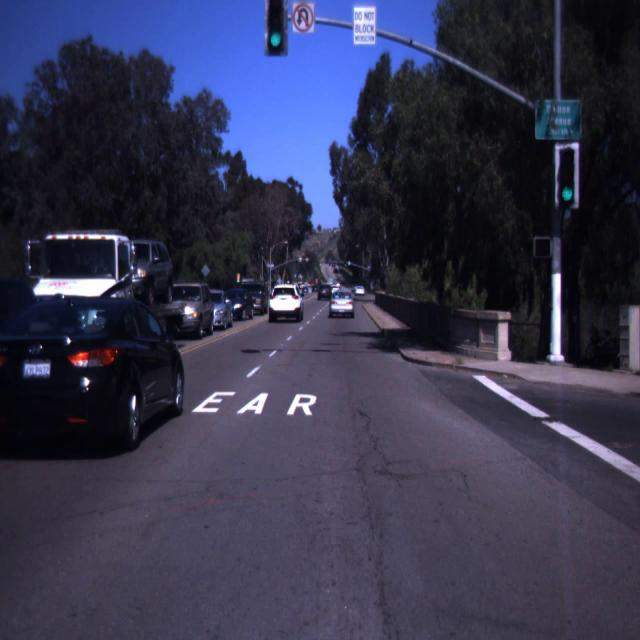yesil: (266, 0, 287, 56), (559, 148, 576, 207)
